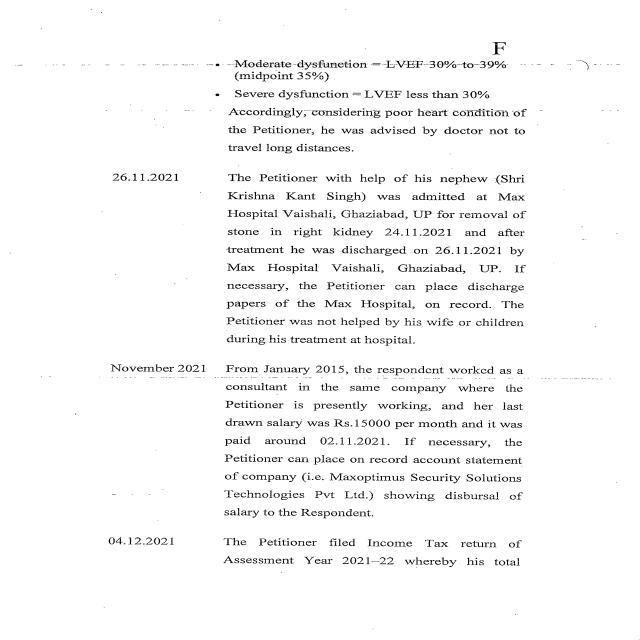page-number: (346, 0, 638, 58)
